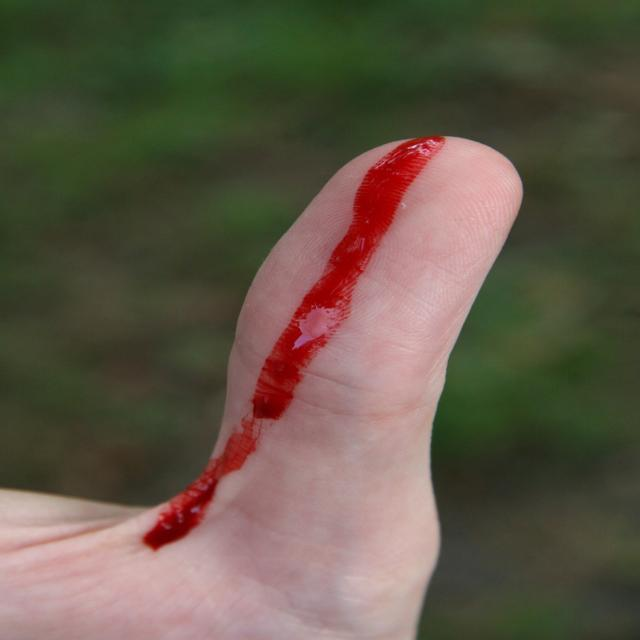flood: (252, 137, 443, 426)
